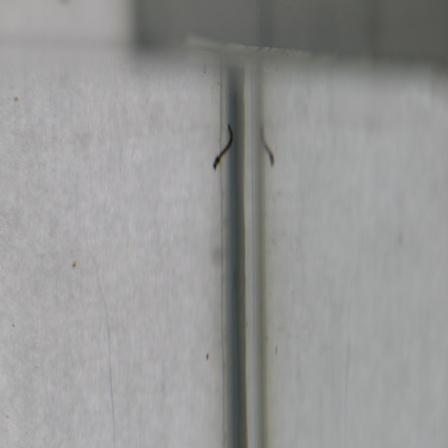Jentik-Nyamuk: (208, 119, 237, 173)
